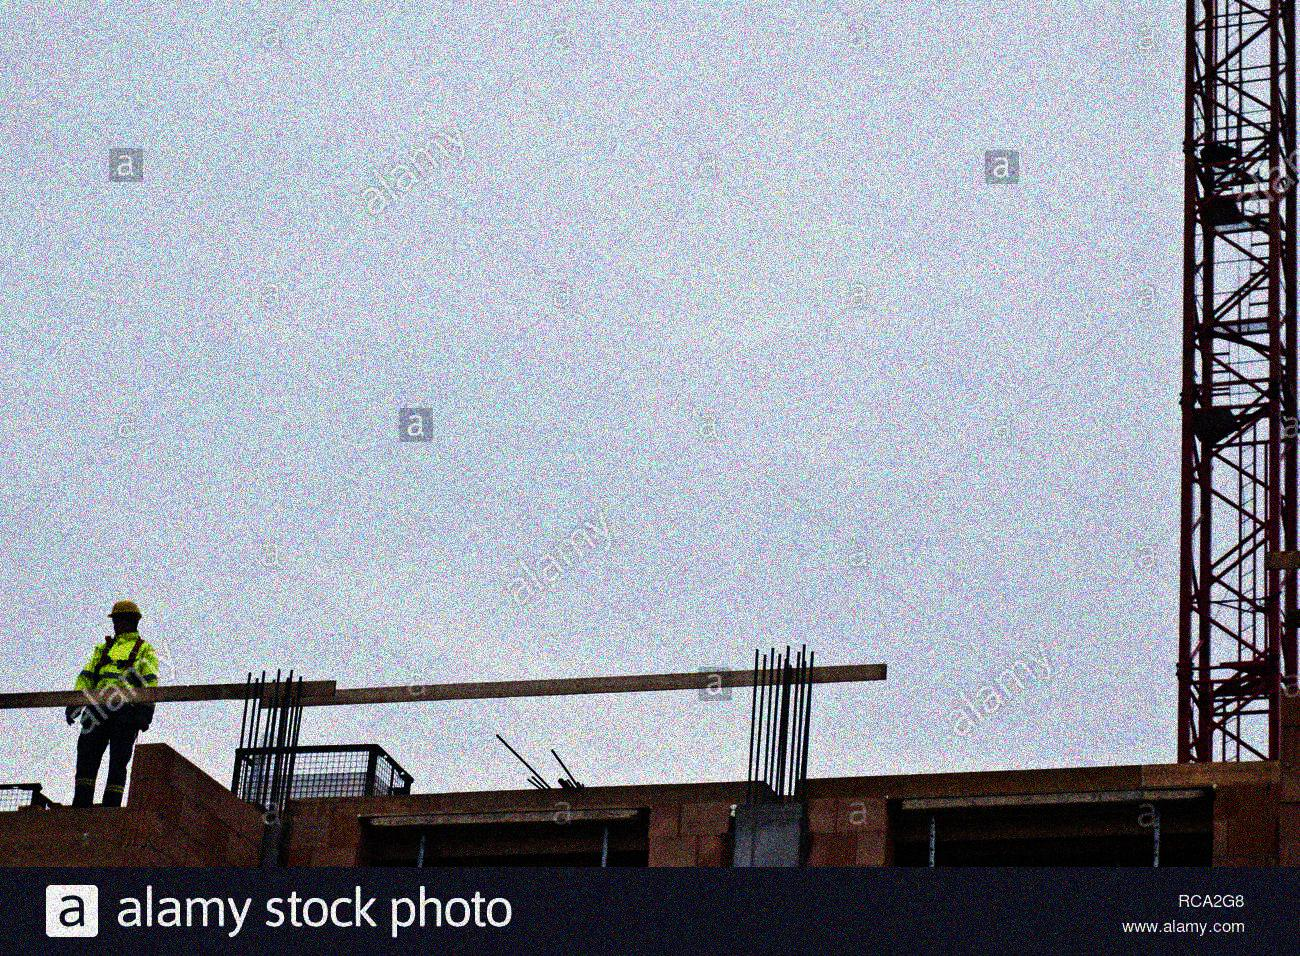helmet: (104, 596, 146, 638)
